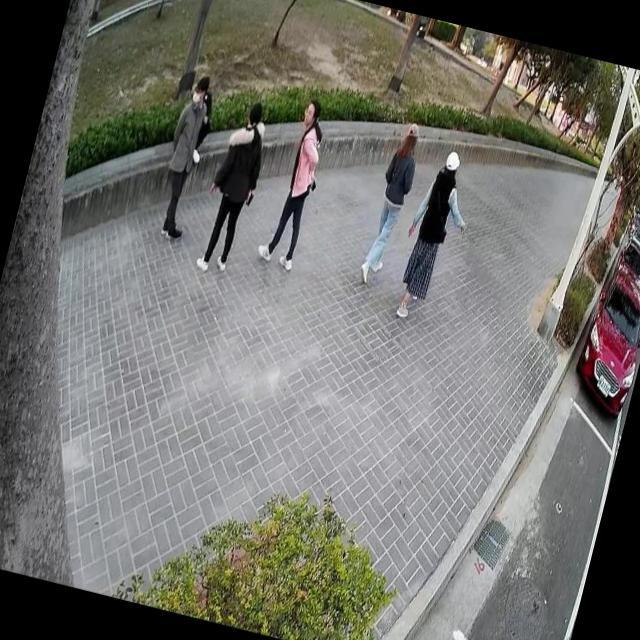person: (384, 134, 486, 328), (187, 86, 280, 282), (248, 87, 338, 278), (145, 62, 224, 245), (352, 114, 427, 288)
